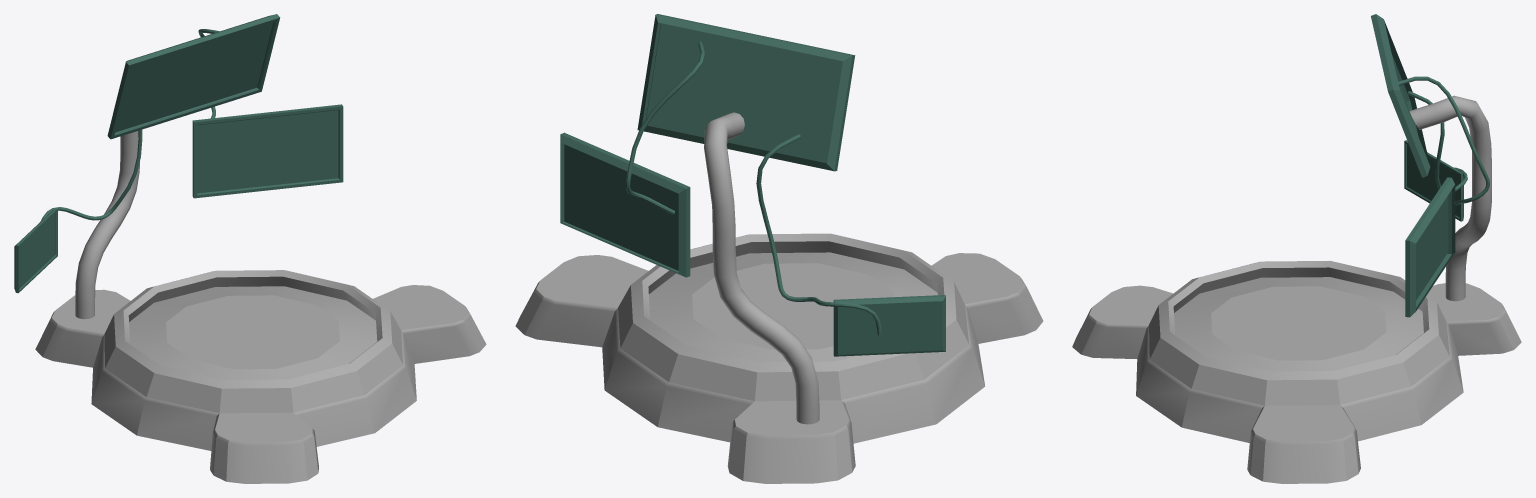
File: RetroExport2_Checkpoint.fbx
3 renders of one model, left to right at view 1: azimuth 30°, elevation 25°; view 2: azimuth 150°, elevation 25°; view 3: azimuth 270°, elevation 25°, orthographic. The views are drawn at different scales.
Parts seen in each view (by area): view 1: CheckPoint1, Screen, Screen5, Pipes10, Screen6, Cable6; view 2: CheckPoint1, Screen5, Screen, Pipes10, Screen6, Cable6, Cable7; view 3: CheckPoint1, Pipes10, Screen, Screen5, Screen6, Cable7, Cable6.
Part boxes in pixels (<box>): CheckPoint1: <box>35,270,486,483</box>; Screen: <box>192,104,343,198</box>; Screen5: <box>107,14,280,139</box>; Pipes10: <box>75,131,139,319</box>; Screen6: <box>14,208,57,293</box>; Cable6: <box>40,129,142,221</box>; CheckPoint1: <box>515,233,1043,483</box>; Screen5: <box>637,14,855,171</box>; Screen: <box>560,132,690,277</box>; Pipes10: <box>704,112,819,424</box>; Screen6: <box>833,295,945,356</box>; Cable6: <box>756,134,881,335</box>; Cable7: <box>625,41,704,214</box>; CheckPoint1: <box>1072,260,1521,483</box>; Pipes10: <box>1409,95,1491,301</box>; Screen: <box>1405,177,1455,317</box>; Screen5: <box>1371,14,1430,177</box>; Screen6: <box>1404,140,1463,221</box>; Cable7: <box>1398,76,1489,205</box>; Cable6: <box>1407,91,1467,191</box>.
Bounding box in the file's own units: 10.7 × 8.05 × 10.24.
